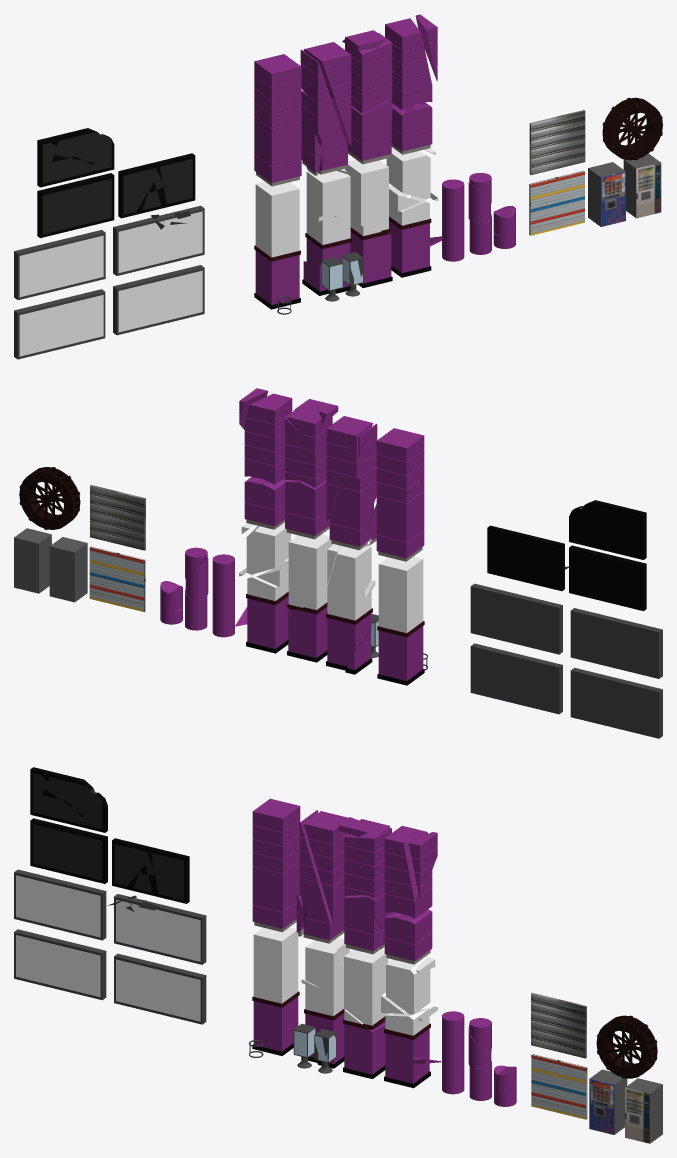
Rendered from Column.fbx.
3 renders of one model, top to bottom at view 1: azimuth 30°, elevation 25°; view 2: azimuth 150°, elevation 25°; view 3: azimuth 330°, elevation 25°, orthographic.
Parts seen in each view (by area): view 1: Box009, Object004, Object026, Box010, Box011, Object011, Object013, Object014, Box013, Box012, Object012, Box015 (+27 smaller); view 2: Box009, Object004, Box003, Box001, Box002, Box004, Object026, Box011, Box010, Box012, Box013, Box015 (+18 smaller); view 3: Box009, Object004, Box010, Box011, Object026, Box012, Object011, Object013, Object014, Object012, Object018, Box015 (+24 smaller).
Boxes of the visible parts, x1=… form: Box009: x1=254, y1=54, x2=301, y2=186; Object004: x1=254, y1=182, x2=300, y2=309; Object026: x1=305, y1=171, x2=351, y2=293; Box010: x1=118, y1=153, x2=195, y2=218; Box011: x1=37, y1=173, x2=114, y2=238; Object011: x1=19, y1=235, x2=103, y2=297; Object013: x1=118, y1=270, x2=202, y2=332; Object014: x1=19, y1=295, x2=103, y2=356; Box013: x1=300, y1=49, x2=347, y2=174; Box012: x1=37, y1=128, x2=114, y2=187; Object012: x1=118, y1=211, x2=202, y2=272; Box015: x1=385, y1=18, x2=432, y2=110; Box009: x1=376, y1=428, x2=424, y2=561; Object004: x1=377, y1=556, x2=424, y2=685; Box003: x1=470, y1=583, x2=562, y2=654; Box001: x1=570, y1=667, x2=662, y2=738; Box002: x1=470, y1=643, x2=562, y2=714; Box004: x1=570, y1=608, x2=662, y2=678; Object026: x1=326, y1=545, x2=372, y2=670; Box011: x1=569, y1=545, x2=646, y2=610; Box010: x1=487, y1=525, x2=564, y2=591; Box012: x1=569, y1=500, x2=646, y2=559; Box013: x1=329, y1=424, x2=377, y2=550; Box015: x1=244, y1=393, x2=292, y2=484; Box009: x1=252, y1=798, x2=300, y2=932; Object004: x1=252, y1=927, x2=299, y2=1055; Box010: x1=112, y1=838, x2=189, y2=903; Box011: x1=30, y1=818, x2=107, y2=883; Object026: x1=304, y1=939, x2=344, y2=1068; Box012: x1=30, y1=767, x2=107, y2=832; Object011: x1=16, y1=875, x2=100, y2=937; Object013: x1=116, y1=959, x2=200, y2=1021; Object014: x1=16, y1=935, x2=100, y2=997; Object012: x1=116, y1=899, x2=200, y2=961; Object018: x1=384, y1=1005, x2=430, y2=1088; Box015: x1=384, y1=825, x2=432, y2=918.
Bounding box in the file's own units: 388 × 142 × 38.35.
14 materials, 5 textured.
